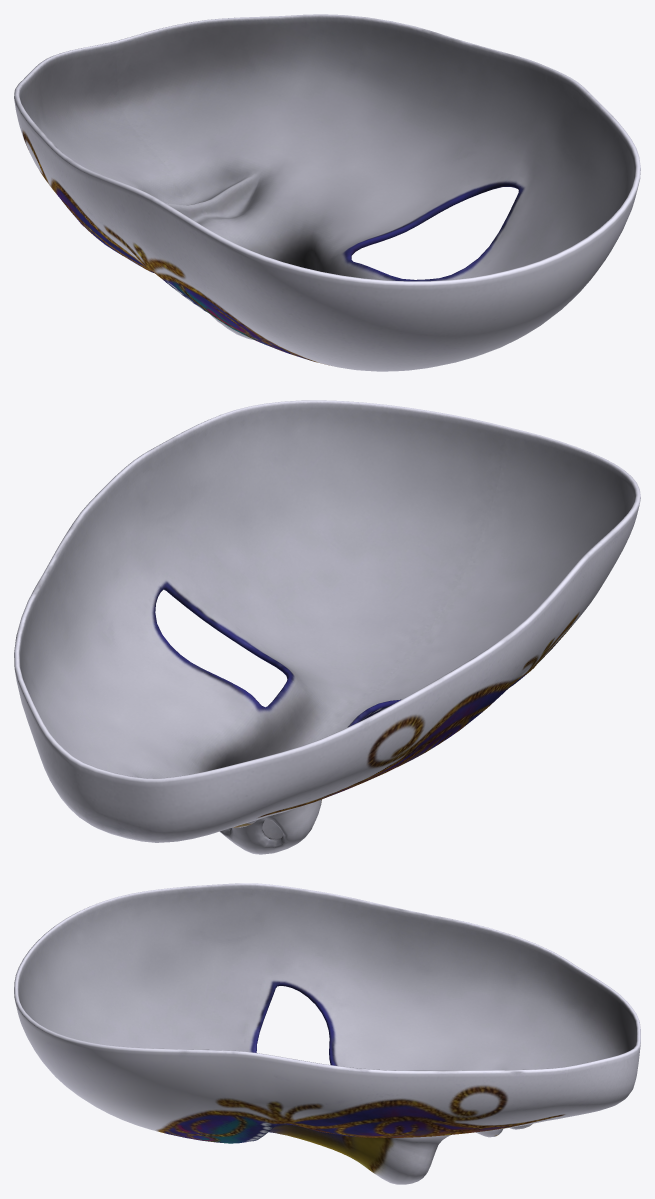
Rendered from 13549_Volto_Mask_L2.obj.
3 views of the same model, one above another, from view 1: azimuth 30°, elevation 25°; view 2: azimuth 150°, elevation 25°; view 3: azimuth 270°, elevation 25° (orthographic). The views are drawn at different scales.
Visible parts, largest first — view 1: 13549_Volto_Mask_v1; view 2: 13549_Volto_Mask_v1; view 3: 13549_Volto_Mask_v1.
Part boxes in pixels (left/top/right/bottom): 13549_Volto_Mask_v1: left=14, top=14, right=640, bottom=371; 13549_Volto_Mask_v1: left=14, top=400, right=640, bottom=854; 13549_Volto_Mask_v1: left=14, top=883, right=640, bottom=1184.
Size of the model in its own units: 19.19 by 10.97 by 29.23.
Materials: 1 (1 with a texture image).
